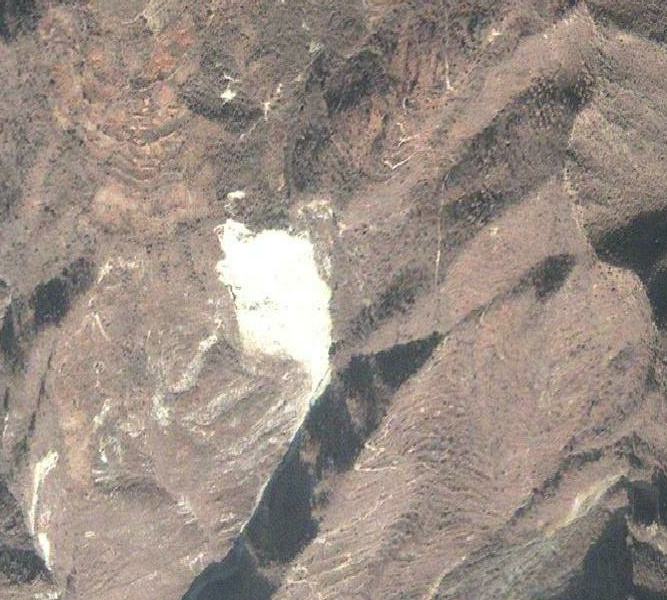slope: (212, 219, 337, 392)
